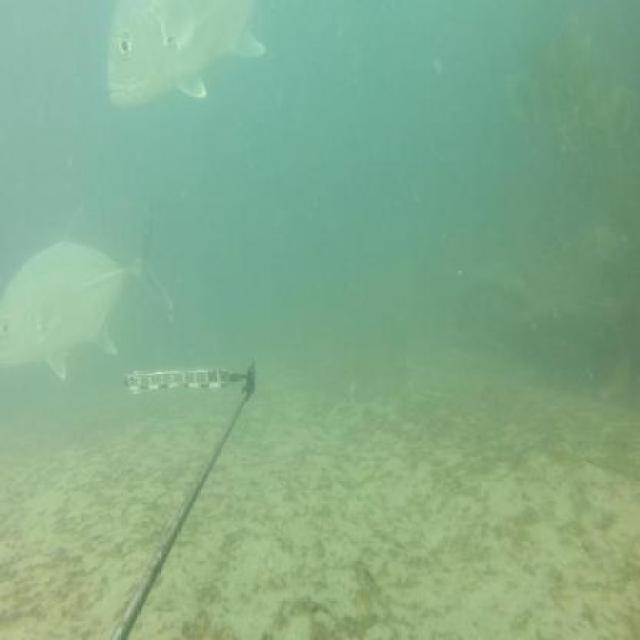Caranx: (0, 209, 178, 383), (103, 1, 272, 116)
